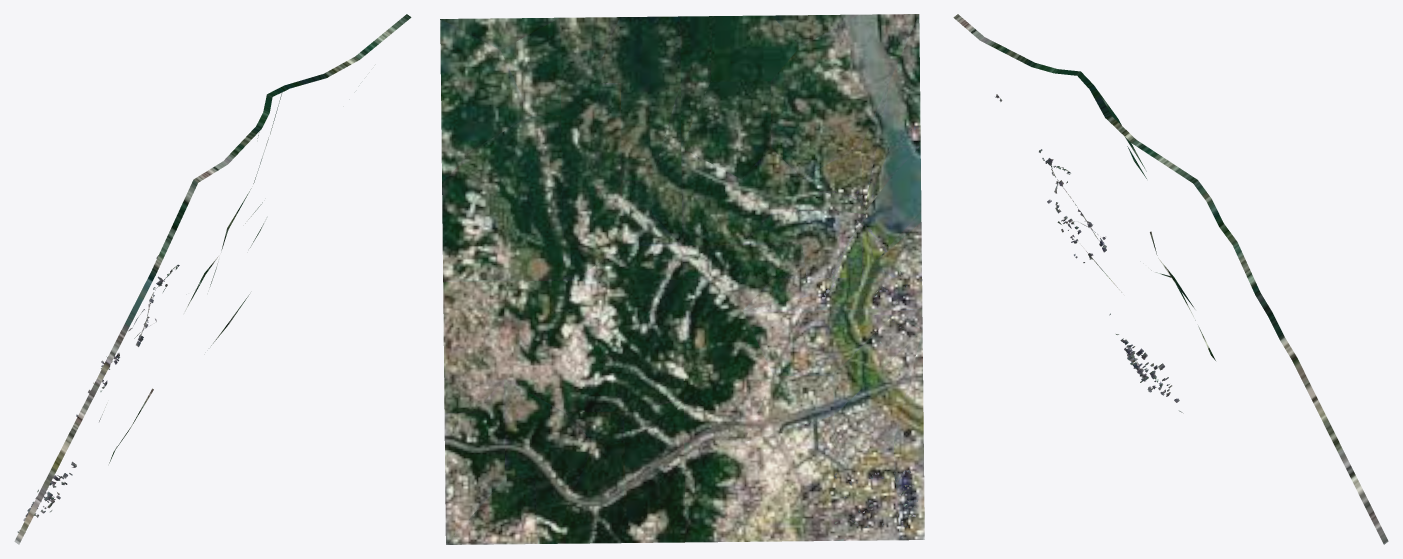
The picture shows the model from 3 angles, left to right: view 1: azimuth 30°, elevation 25°; view 2: azimuth 150°, elevation 25°; view 3: azimuth 270°, elevation 25°; orthographic projection. The views are drawn at different scales.
Size of the model in its own units: 9769 by 9129 by 8417.
1 material, 1 textured.
